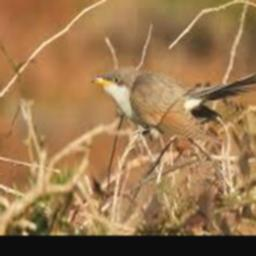Cuckoo: (89, 68, 256, 139)
